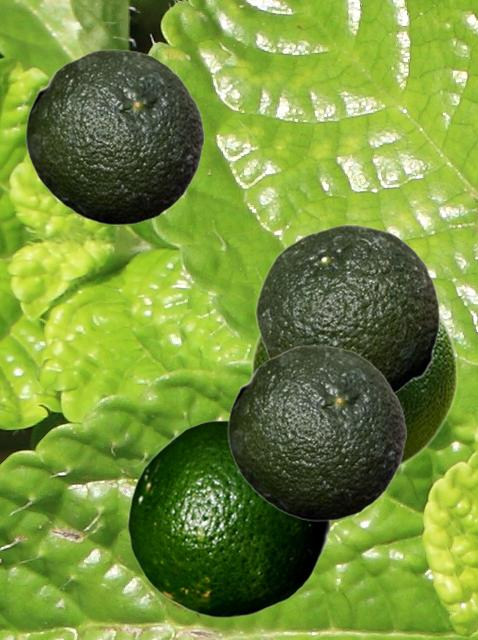calamansi: (127, 419, 330, 617), (250, 310, 458, 468), (227, 345, 406, 520), (25, 49, 204, 224), (255, 224, 439, 394)
